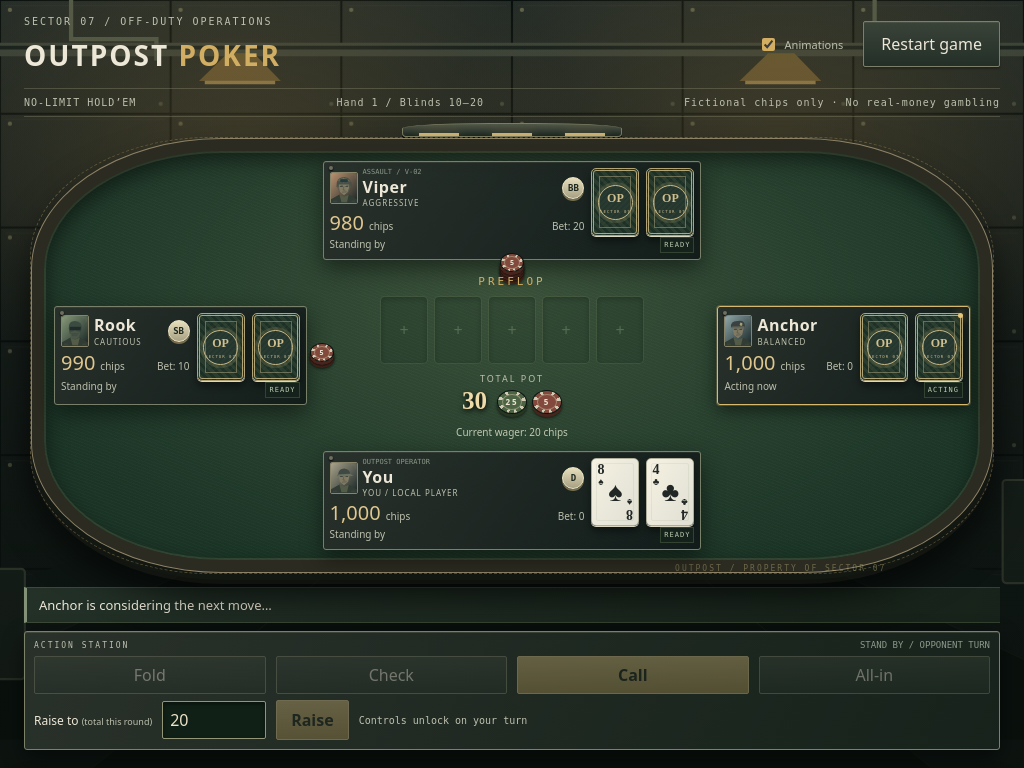
Test case: keeps cosmetic animation settings separate from session state and pending turns
What coordinates should you click on to do the following:
click the checkbox labelled "Animations"
I would click on:
 (768, 44)
Its box is [762, 38, 775, 50].
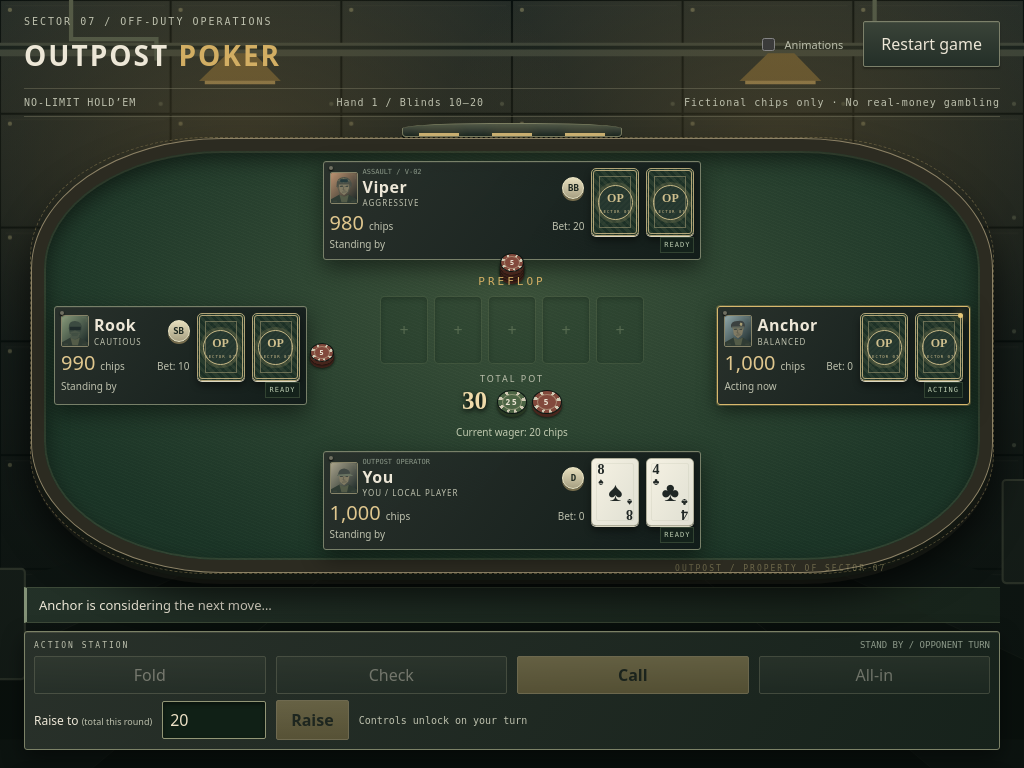
What coordinates should you click on to do the following:
click the checkbox labelled "Animations"
I would click on:
 (768, 44)
Its box is [762, 38, 775, 50].
Wait 100 ms
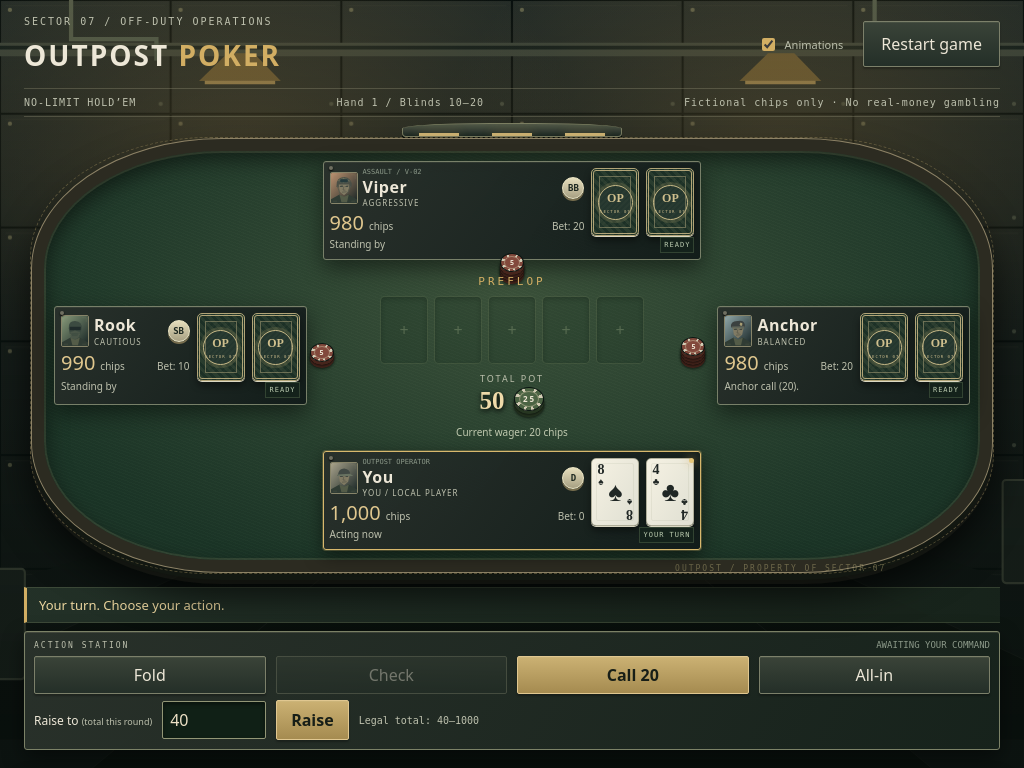
Expected: the text with test id "stack-0" reads "1,000", [330, 499, 381, 526]
Expected: the message shows "Your turn", [39, 596, 224, 614]
